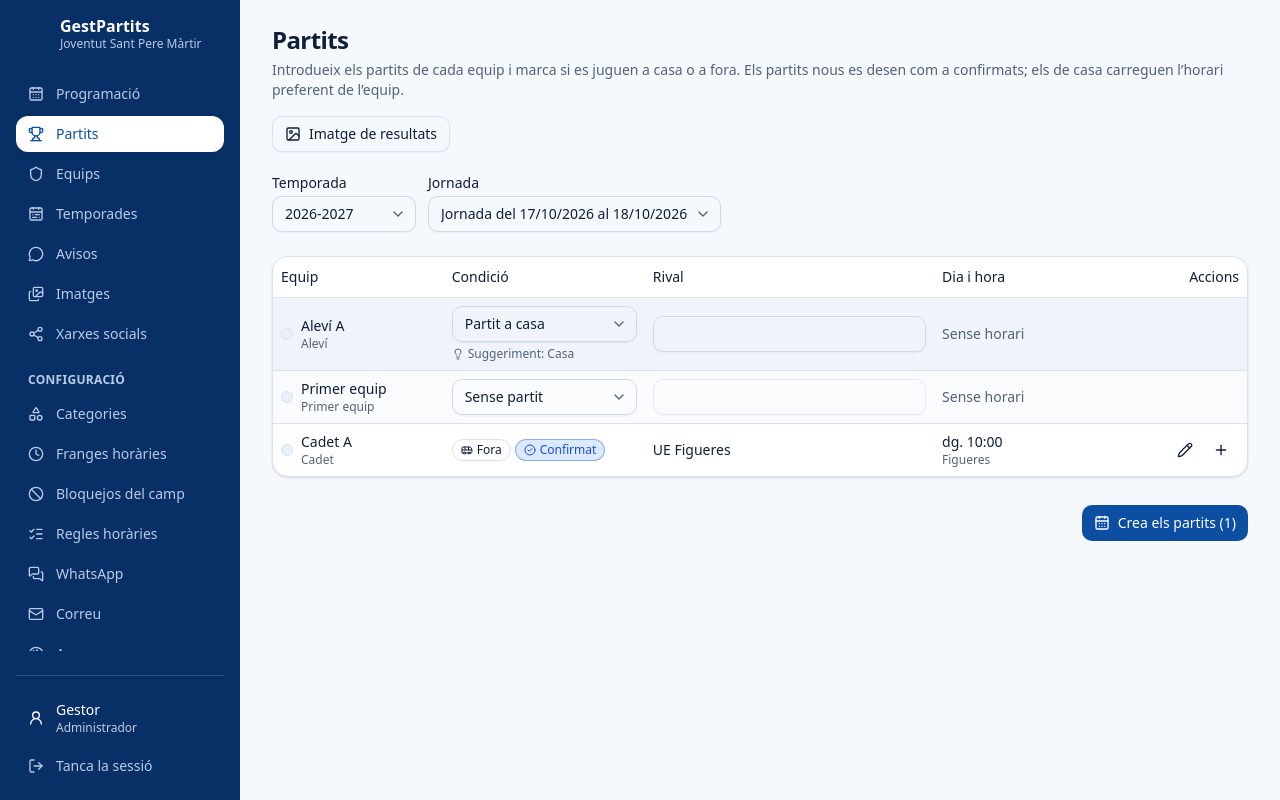
resultats dels partits › avisa que no hi ha resultats i no deixa generar la imatge
The image size is (1280, 800).
Click the button "Imatge de resultats" at (361, 134), box [272,116,450,152]
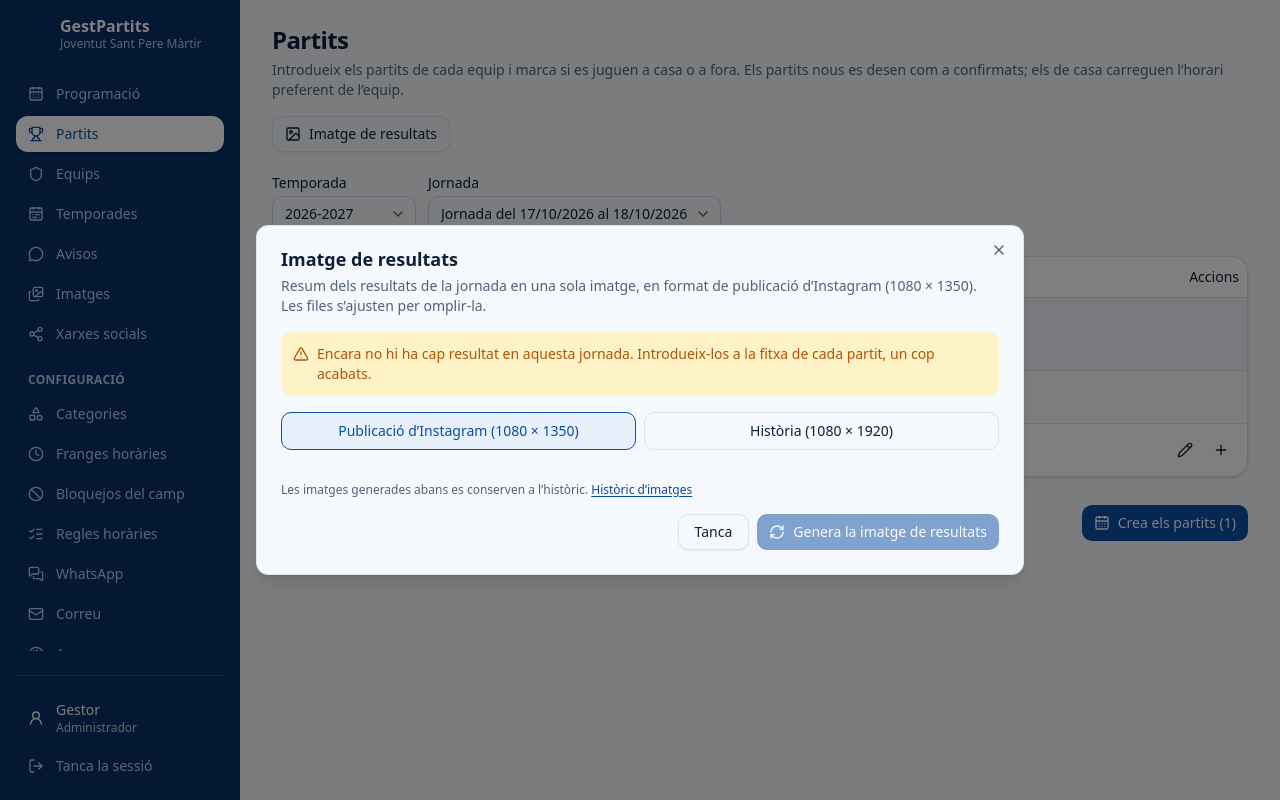
Expected: the text "Encara no hi ha cap resultat en aquesta jornada" is shown, [317,344,935,383]
Expected: the button "Genera la imatge de resultats" is disabled, [757,514,999,550]
